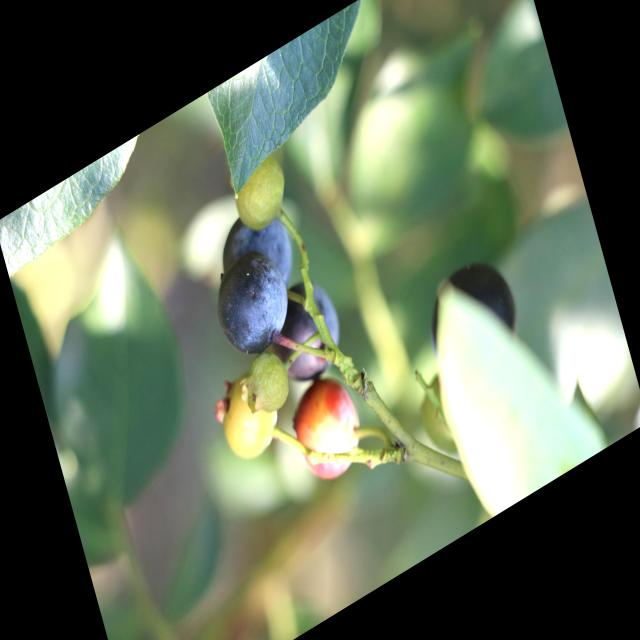blueberry: (414, 235, 532, 398), (252, 261, 358, 411), (204, 236, 300, 375), (208, 185, 304, 321)
blueberry-halfripe: (285, 362, 372, 496)
blueberry-unripe: (210, 352, 285, 473), (224, 146, 296, 247), (242, 336, 297, 424)
